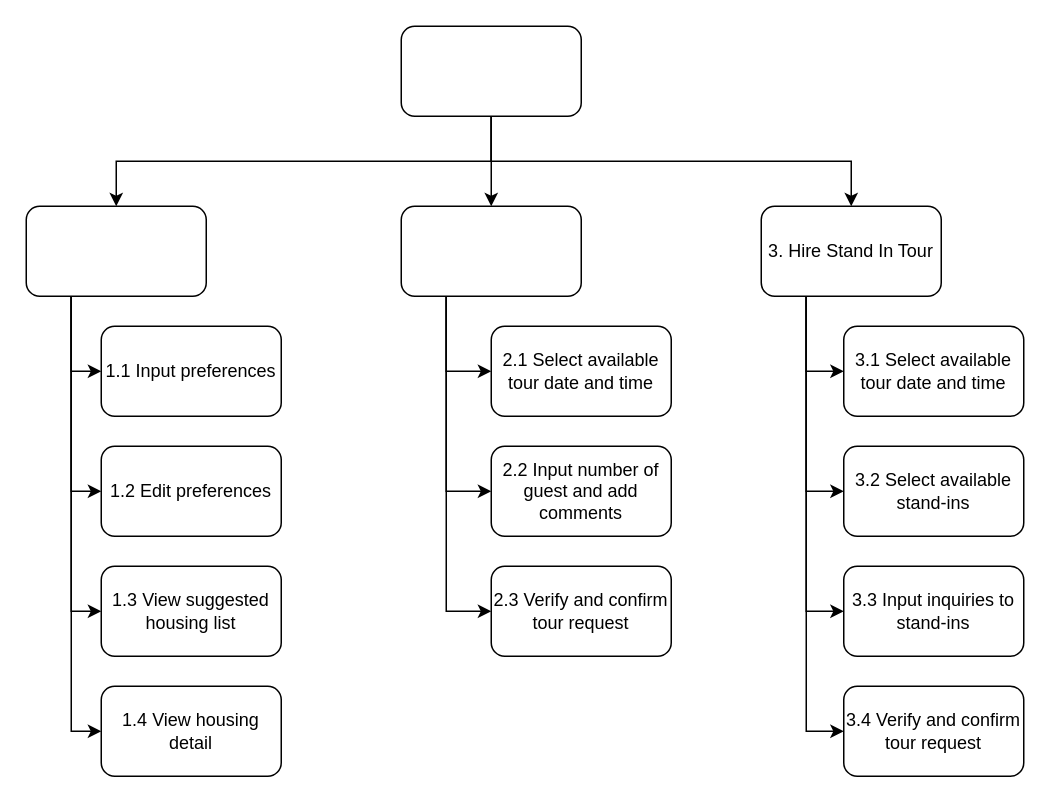
This 1050x803 diagram has some shape labels left out. The centre of each missing label's shape, as x and y in pixels:
"1. House preference and suggestion" goes at (x=115, y=250).
"2. Schedule In-Person Tour" goes at (x=490, y=250).
"House Scout" goes at (x=490, y=70).
